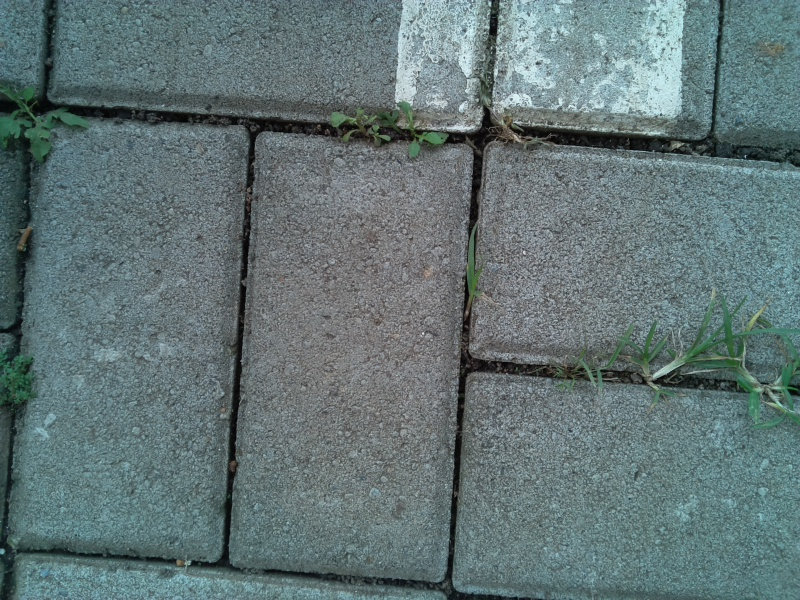Weed: (1, 63, 93, 167), (623, 314, 741, 389), (477, 44, 556, 156), (732, 326, 799, 428), (548, 334, 625, 396), (387, 94, 449, 164), (455, 222, 494, 323), (319, 102, 393, 153), (1, 342, 41, 416)
